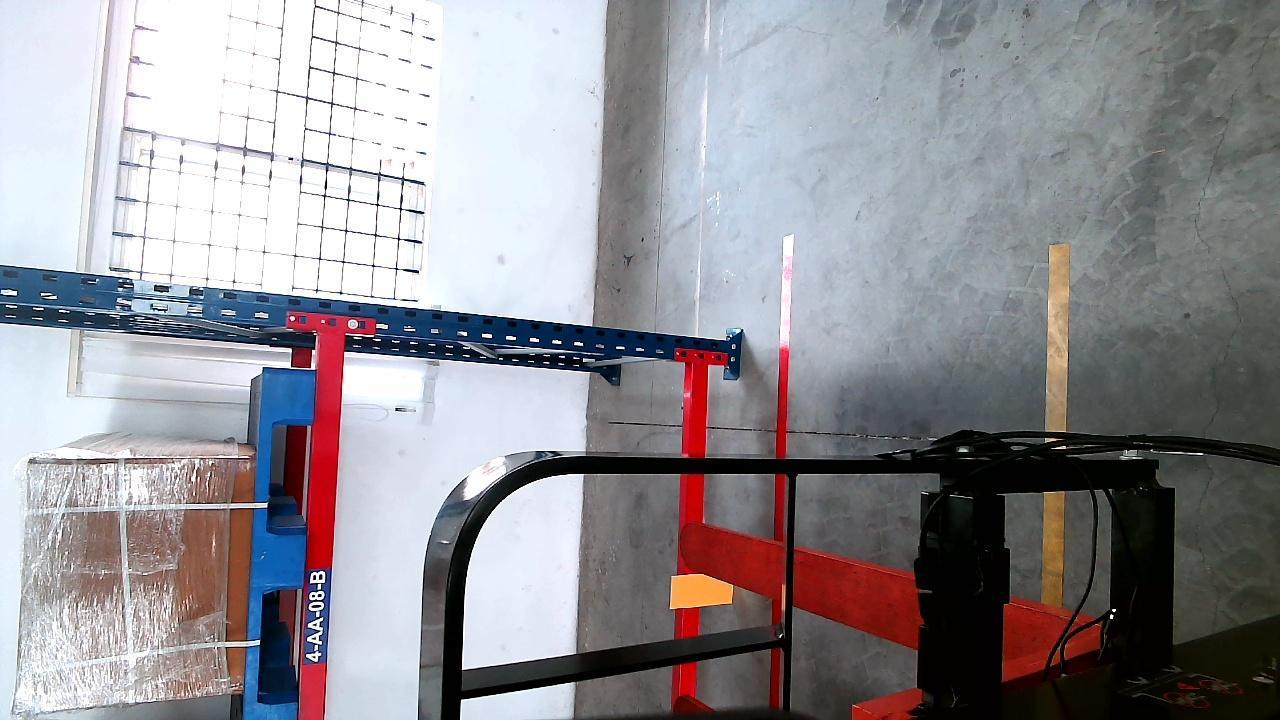h_rack: (300, 332, 348, 720), (678, 360, 715, 703)
orange_strip: (671, 572, 738, 608)
red_line: (766, 232, 796, 708)
small_pallet: (243, 368, 316, 720)
yellow_line: (1042, 241, 1068, 608)
